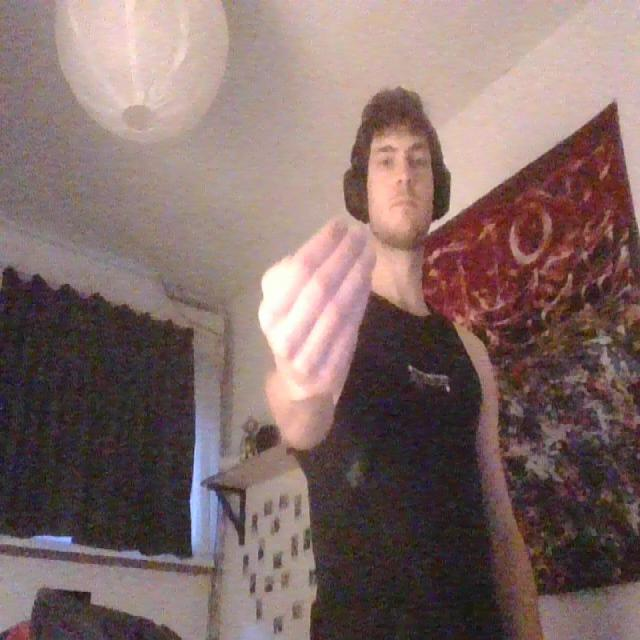forward: (250, 197, 382, 410)
